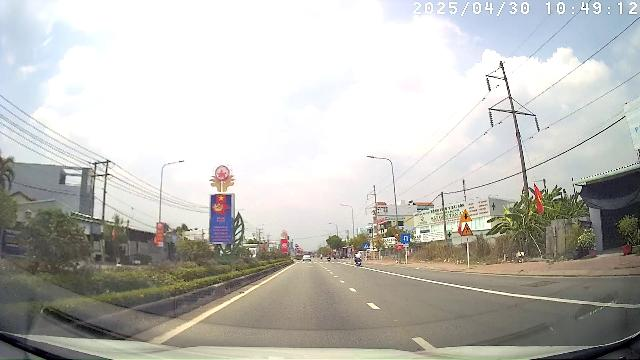423a-duong-nguoi-di-bo-sang-ngang-1: (363, 243, 369, 249)
